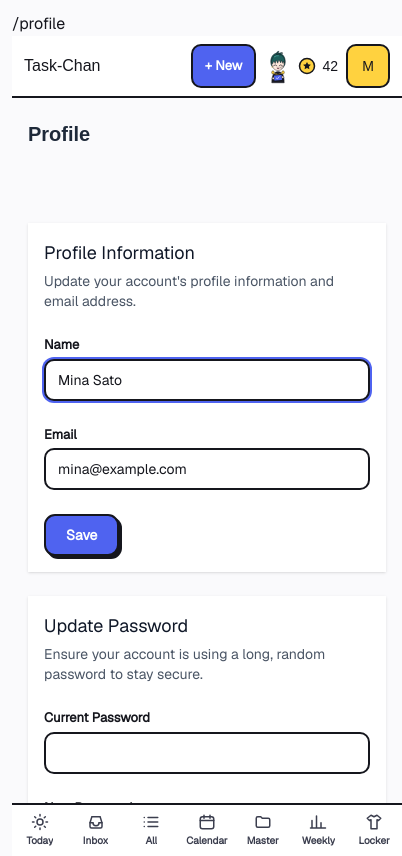
logout › logs out from the mobile account menu the same way
Check: the field labelled "Name" holds "Mina Sato", box 44,358 -> 370,400
Click the button named "Account menu for Mina Sato".
click(368, 66)  # box 346,44 -> 390,88
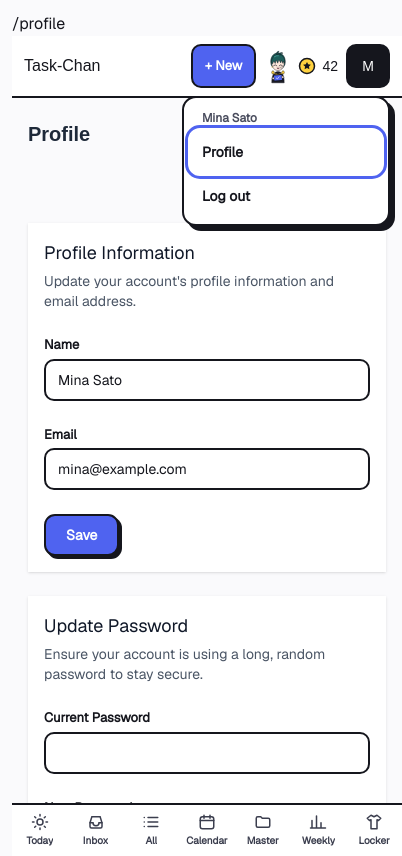
Click the menu item "Log out".
click(286, 196)  # box 190,174 -> 382,218
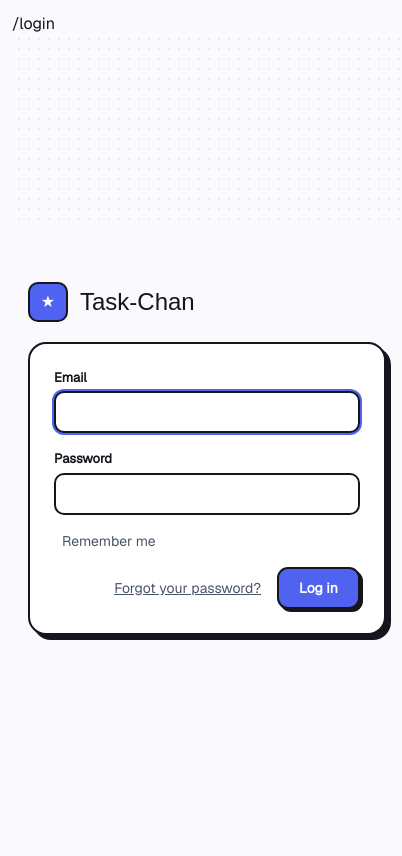
Check: the button "Log in" is shown, box 277,566 -> 360,608
Check: the field labelled "Email" is shown, box 54,391 -> 360,433
Check: the text with test id "path" reads "/login", box 12,13 -> 55,34
